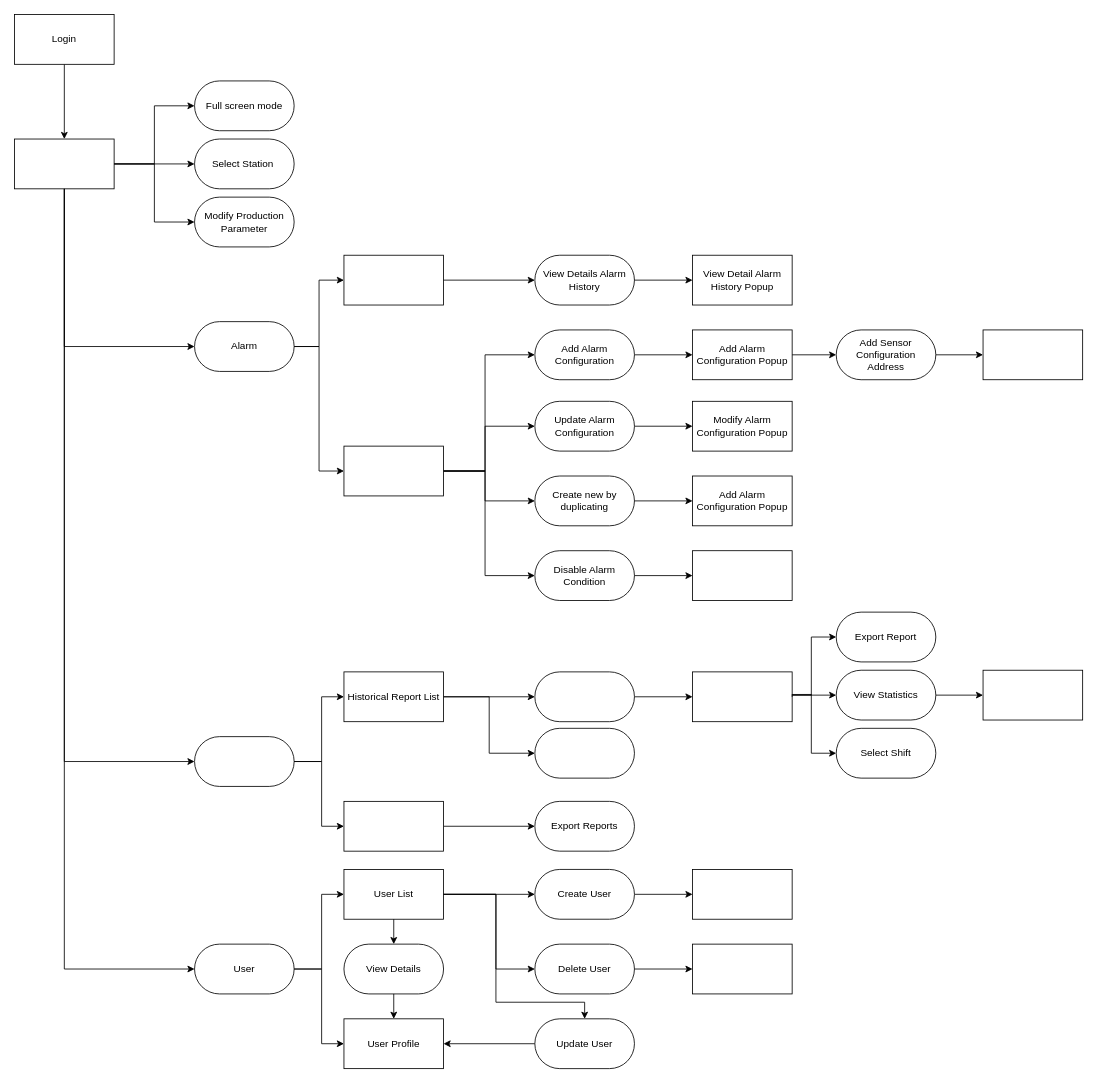
Some shapes in this 1097 by 1083 pixel diagram are drawn without their labels. The shapes that lost their labels are listed below. From the top down, each one's centre as x and y in pixels, then its label:
At point 64,163: "Monitoring".
At point 393,279: "Alarm History List".
At point 1032,354: "Add Sensor Configuration Address Popup".
At point 393,470: "Alarm Configuration List".
At point 742,575: "Confirm Disable Alarm Configuration Popup".
At point 584,696: "View report".
At point 742,696: "Historical Report Details".
At point 1032,694: "Historical Report Staitsitcs".
At point 244,761: "Report".
At point 584,752: "Export Single-Report or Batch".
At point 393,826: "Historical Reports Staistic".
At point 742,894: "Create User Popup".
At point 742,968: "Confirm Delete User Popup".
